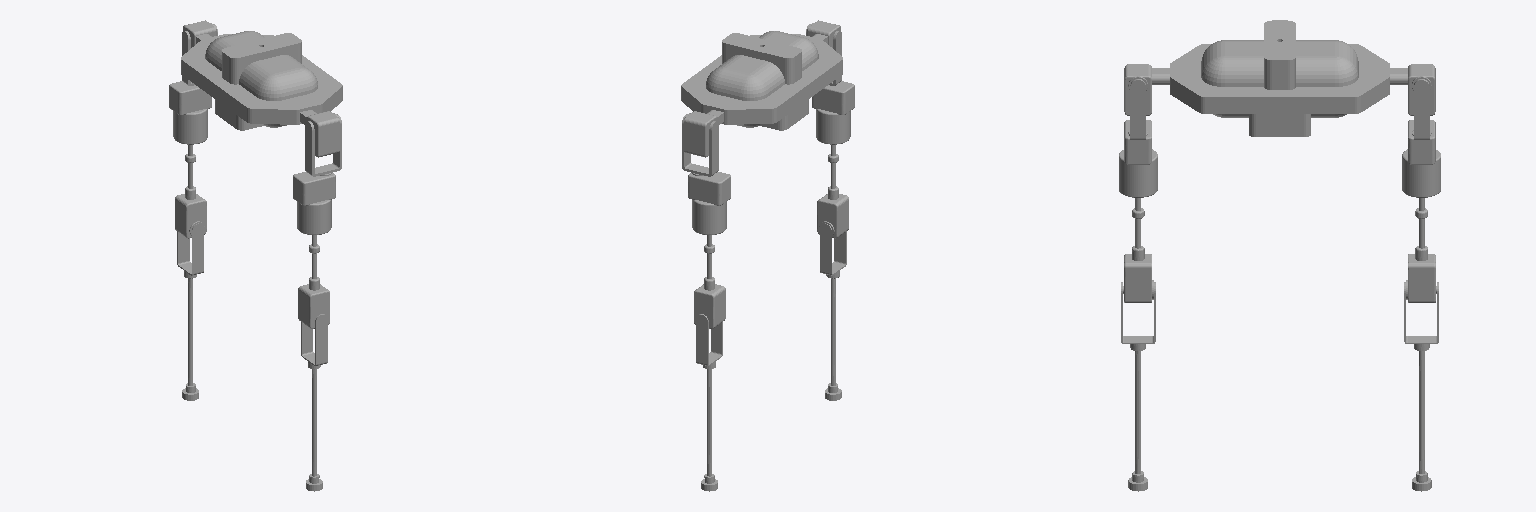
robot.urdf — antrop_arms:
<?xml version="1.0" ?>
<!-- =================================================================================== -->
<!-- |    This document was autogenerated by xacro from [local-path]/moveit_ws/src/antrop_arms/urdf/antrop_arms.xacro | -->
<!-- |    EDITING THIS FILE BY HAND IS NOT RECOMMENDED                                 | -->
<!-- =================================================================================== -->
<robot name="antrop_arms">
    <material name="silver">
        <color rgba="0.700 0.700 0.700 1.000" />
    </material>
    <transmission name="base_shoulder_left_joint_tran">
        <type>transmission_interface/SimpleTransmission</type>
        <joint name="base_shoulder_left_joint">
            <hardwareInterface>hardware_interface/PositionJointInterface</hardwareInterface>
        </joint>
        <actuator name="base_shoulder_left_joint_actr">
            <hardwareInterface>hardware_interface/PositionJointInterface</hardwareInterface>
            <mechanicalReduction>1</mechanicalReduction>
        </actuator>
    </transmission>
    <transmission name="shoulder_elbow_left_joint_tran">
        <type>transmission_interface/SimpleTransmission</type>
        <joint name="shoulder_elbow_left_joint">
            <hardwareInterface>hardware_interface/PositionJointInterface</hardwareInterface>
        </joint>
        <actuator name="shoulder_elbow_left_joint_actr">
            <hardwareInterface>hardware_interface/PositionJointInterface</hardwareInterface>
            <mechanicalReduction>1</mechanicalReduction>
        </actuator>
    </transmission>
    <transmission name="base_shoulder_right_joint_tran">
        <type>transmission_interface/SimpleTransmission</type>
        <joint name="base_shoulder_right_joint">
            <hardwareInterface>hardware_interface/PositionJointInterface</hardwareInterface>
        </joint>
        <actuator name="base_shoulder_right_joint_actr">
            <hardwareInterface>hardware_interface/PositionJointInterface</hardwareInterface>
            <mechanicalReduction>1</mechanicalReduction>
        </actuator>
    </transmission>
    <transmission name="shoulder_elbow_right_joint_tran">
        <type>transmission_interface/SimpleTransmission</type>
        <joint name="shoulder_elbow_right_joint">
            <hardwareInterface>hardware_interface/PositionJointInterface</hardwareInterface>
        </joint>
        <actuator name="shoulder_elbow_right_joint_actr">
            <hardwareInterface>hardware_interface/PositionJointInterface</hardwareInterface>
            <mechanicalReduction>1</mechanicalReduction>
        </actuator>
    </transmission>
    <transmission name="elbow_forearm_right_joint_tran">
        <type>transmission_interface/SimpleTransmission</type>
        <joint name="elbow_forearm_right_joint">
            <hardwareInterface>hardware_interface/PositionJointInterface</hardwareInterface>
        </joint>
        <actuator name="elbow_forearm_right_joint_actr">
            <hardwareInterface>hardware_interface/PositionJointInterface</hardwareInterface>
            <mechanicalReduction>1</mechanicalReduction>
        </actuator>
    </transmission>
    <transmission name="elbow_forearm_left_joint_tran">
        <type>transmission_interface/SimpleTransmission</type>
        <joint name="elbow_forearm_left_joint">
            <hardwareInterface>hardware_interface/PositionJointInterface</hardwareInterface>
        </joint>
        <actuator name="elbow_forearm_left_joint_actr">
            <hardwareInterface>hardware_interface/PositionJointInterface</hardwareInterface>
            <mechanicalReduction>1</mechanicalReduction>
        </actuator>
    </transmission>
    <gazebo>
        <plugin filename="libgazebo_ros_control.so" name="control">
            <robotNamespace>/antrop_arms</robotNamespace>
        </plugin>
        <plugin name="gazebo_ros_control">
            <robotNamespace>/</robotNamespace>
        </plugin>
    </gazebo>
    <gazebo reference="base_link">
        <material>Gazebo/Silver</material>
        <mu1>0.2</mu1>
        <mu2>0.2</mu2>
        <selfCollide>true</selfCollide>
        <gravity>true</gravity>
    </gazebo>
    <gazebo reference="Shoulder_Yaw_Structure_v1_1">
        <material>Gazebo/Silver</material>
        <mu1>0.2</mu1>
        <mu2>0.2</mu2>
        <selfCollide>true</selfCollide>
    </gazebo>
    <gazebo reference="Servo_Herkulex_v1_1">
        <material>Gazebo/Silver</material>
        <mu1>0.2</mu1>
        <mu2>0.2</mu2>
        <selfCollide>true</selfCollide>
    </gazebo>
    <gazebo reference="Shoulder_Yaw_Transmission_v1_1">
        <material>Gazebo/Silver</material>
        <mu1>0.2</mu1>
        <mu2>0.2</mu2>
        <selfCollide>true</selfCollide>
    </gazebo>
    <gazebo reference="elbow_left_link_1">
        <material>Gazebo/Silver</material>
        <mu1>0.2</mu1>
        <mu2>0.2</mu2>
        <selfCollide>true</selfCollide>
    </gazebo>
    <gazebo reference="Shoulder_Yaw_Structure_v1__1__1">
        <material>Gazebo/Silver</material>
        <mu1>0.2</mu1>
        <mu2>0.2</mu2>
        <selfCollide>true</selfCollide>
    </gazebo>
    <gazebo reference="Servo_Herkulex_v1__1__1">
        <material>Gazebo/Silver</material>
        <mu1>0.2</mu1>
        <mu2>0.2</mu2>
        <selfCollide>true</selfCollide>
    </gazebo>
    <gazebo reference="Shoulder_Yaw_Transmission_v1__1__1">
        <material>Gazebo/Silver</material>
        <mu1>0.2</mu1>
        <mu2>0.2</mu2>
        <selfCollide>true</selfCollide>
    </gazebo>
    <gazebo reference="elbow_right_link_1">
        <material>Gazebo/Silver</material>
        <mu1>0.2</mu1>
        <mu2>0.2</mu2>
        <selfCollide>true</selfCollide>
    </gazebo>
    <gazebo reference="shoulder_right_link_1">
        <material>Gazebo/Silver</material>
        <mu1>0.2</mu1>
        <mu2>0.2</mu2>
        <selfCollide>true</selfCollide>
    </gazebo>
    <gazebo reference="shoulder_left_link_1">
        <material>Gazebo/Silver</material>
        <mu1>0.2</mu1>
        <mu2>0.2</mu2>
        <selfCollide>true</selfCollide>
    </gazebo>
    <gazebo reference="forearm_left_link_1">
        <material>Gazebo/Silver</material>
        <mu1>0.2</mu1>
        <mu2>0.2</mu2>
        <selfCollide>true</selfCollide>
    </gazebo>
    <gazebo reference="forearm_right_link_1">
        <material>Gazebo/Silver</material>
        <mu1>0.2</mu1>
        <mu2>0.2</mu2>
        <selfCollide>true</selfCollide>
    </gazebo>
    <link name="world" />
    <link name="base_link">
        <inertial>
            <origin rpy="0 0 0" xyz="1.066898751021674e-15 6.668117193885462e-17 -0.0018137714290285523" />
            <mass value="17.13115280088791" />
            <inertia ixx="0.071673" ixy="0.0" ixz="0.0" iyy="0.032901" iyz="0.0" izz="0.085379" />
        </inertial>
        <visual>
            <origin rpy="0 0 0" xyz="0 0 0" />
            <geometry>
                <mesh filename="package://antrop_arms_description/meshes/base_link.stl" scale="0.001 0.001 0.001" />
            </geometry>
            <material name="silver" />
        </visual>
        <collision>
            <origin rpy="0 0 0" xyz="0 0 0" />
            <geometry>
                <mesh filename="package://antrop_arms_description/meshes/base_link.stl" scale="0.001 0.001 0.001" />
            </geometry>
        </collision>
    </link>
    <link name="Shoulder_Yaw_Structure_v1_1">
        <inertial>
            <origin rpy="0 0 0" xyz="-0.021135735062036764 -8.326672684688674e-16 -0.04093696874713262" />
            <mass value="0.13081573332382615" />
            <inertia ixx="9.8e-05" ixy="-0.0" ixz="1e-06" iyy="0.000152" iyz="0.0" izz="6.3e-05" />
        </inertial>
        <visual>
            <origin rpy="0 0 0" xyz="-0.021 -0.18 0.0" />
            <geometry>
                <mesh filename="package://antrop_arms_description/meshes/Shoulder_Yaw_Structure_v1_1.stl" scale="0.001 0.001 0.001" />
            </geometry>
            <material name="silver" />
        </visual>
        <collision>
            <origin rpy="0 0 0" xyz="-0.021 -0.18 0.0" />
            <geometry>
                <mesh filename="package://antrop_arms_description/meshes/Shoulder_Yaw_Structure_v1_1.stl" scale="0.001 0.001 0.001" />
            </geometry>
        </collision>
    </link>
    <link name="Servo_Herkulex_v1_1">
        <inertial>
            <origin rpy="0 0 0" xyz="-0.015296200031691265 -5.551115123125783e-17 -0.02073708217051337" />
            <mass value="0.5836410679799175" />
            <inertia ixx="0.00013" ixy="0.0" ixz="-2e-06" iyy="0.000221" iyz="0.0" izz="0.000207" />
        </inertial>
        <visual>
            <origin rpy="0 0 0" xyz="0.0 -0.18 0.075" />
            <geometry>
                <mesh filename="package://antrop_arms_description/meshes/Servo_Herkulex_v1_1.stl" scale="0.001 0.001 0.001" />
            </geometry>
            <material name="silver" />
        </visual>
        <collision>
            <origin rpy="0 0 0" xyz="0.0 -0.18 0.075" />
            <geometry>
                <mesh filename="package://antrop_arms_description/meshes/Servo_Herkulex_v1_1.stl" scale="0.001 0.001 0.001" />
            </geometry>
        </collision>
    </link>
    <link name="Shoulder_Yaw_Transmission_v1_1">
        <inertial>
            <origin rpy="0 0 0" xyz="-1.8166024240429124e-14 -5.551115123125783e-17 -0.023088428353467902" />
            <mass value="0.7529944150379378" />
            <inertia ixx="0.000272" ixy="-0.0" ixz="0.0" iyy="0.000272" iyz="-0.0" izz="0.000239" />
        </inertial>
        <visual>
            <origin rpy="0 0 0" xyz="0.0155 -0.18 0.115" />
            <geometry>
                <mesh filename="package://antrop_arms_description/meshes/Shoulder_Yaw_Transmission_v1_1.stl" scale="0.001 0.001 0.001" />
            </geometry>
            <material name="silver" />
        </visual>
        <collision>
            <origin rpy="0 0 0" xyz="0.0155 -0.18 0.115" />
            <geometry>
                <mesh filename="package://antrop_arms_description/meshes/Shoulder_Yaw_Transmission_v1_1.stl" scale="0.001 0.001 0.001" />
            </geometry>
        </collision>
    </link>
    <link name="elbow_left_link_1">
        <inertial>
            <origin rpy="0 0 0" xyz="-1.899869150889799e-14 -0.00021228541858173133 -0.11684928259378977" />
            <mass value="0.6214584962841803" />
            <inertia ixx="0.000538" ixy="0.0" ixz="0.0" iyy="0.000531" iyz="-3e-06" izz="0.000118" />
        </inertial>
        <visual>
            <origin rpy="0 0 0" xyz="0.0155 -0.18 0.163" />
            <geometry>
                <mesh filename="package://antrop_arms_description/meshes/elbow_left_link_1.stl" scale="0.001 0.001 0.001" />
            </geometry>
            <material name="silver" />
        </visual>
        <collision>
            <origin rpy="0 0 0" xyz="0.0155 -0.18 0.163" />
            <geometry>
                <mesh filename="package://antrop_arms_description/meshes/elbow_left_link_1.stl" scale="0.001 0.001 0.001" />
            </geometry>
        </collision>
    </link>
    <link name="Shoulder_Yaw_Structure_v1__1__1">
        <inertial>
            <origin rpy="0 0 0" xyz="-0.021135735062036733 -9.43689570931383e-16 -0.040936968747132534" />
            <mass value="0.13081573332382615" />
            <inertia ixx="9.8e-05" ixy="-0.0" ixz="1e-06" iyy="0.000152" iyz="0.0" izz="6.3e-05" />
        </inertial>
        <visual>
            <origin rpy="0 0 0" xyz="-0.021 0.18 0.0" />
            <geometry>
                <mesh filename="package://antrop_arms_description/meshes/Shoulder_Yaw_Structure_v1__1__1.stl" scale="0.001 0.001 0.001" />
            </geometry>
            <material name="silver" />
        </visual>
        <collision>
            <origin rpy="0 0 0" xyz="-0.021 0.18 0.0" />
            <geometry>
                <mesh filename="package://antrop_arms_description/meshes/Shoulder_Yaw_Structure_v1__1__1.stl" scale="0.001 0.001 0.001" />
            </geometry>
        </collision>
    </link>
    <link name="Servo_Herkulex_v1__1__1">
        <inertial>
            <origin rpy="0 0 0" xyz="-0.015296200031691375 1.6653345369377348e-16 -0.020737082170513232" />
            <mass value="0.5836410679799175" />
            <inertia ixx="0.00013" ixy="0.0" ixz="-2e-06" iyy="0.000221" iyz="0.0" izz="0.000207" />
        </inertial>
        <visual>
            <origin rpy="0 0 0" xyz="0.0 0.18 0.075" />
            <geometry>
                <mesh filename="package://antrop_arms_description/meshes/Servo_Herkulex_v1__1__1.stl" scale="0.001 0.001 0.001" />
            </geometry>
            <material name="silver" />
        </visual>
        <collision>
            <origin rpy="0 0 0" xyz="0.0 0.18 0.075" />
            <geometry>
                <mesh filename="package://antrop_arms_description/meshes/Servo_Herkulex_v1__1__1.stl" scale="0.001 0.001 0.001" />
            </geometry>
        </collision>
    </link>
    <link name="Shoulder_Yaw_Transmission_v1__1__1">
        <inertial>
            <origin rpy="0 0 0" xyz="-1.8197249262996706e-14 1.942890293094024e-16 -0.023088428353467597" />
            <mass value="0.7529944150379378" />
            <inertia ixx="0.000272" ixy="-0.0" ixz="0.0" iyy="0.000272" iyz="0.0" izz="0.000239" />
        </inertial>
        <visual>
            <origin rpy="0 0 0" xyz="0.0155 0.18 0.115" />
            <geometry>
                <mesh filename="package://antrop_arms_description/meshes/Shoulder_Yaw_Transmission_v1__1__1.stl" scale="0.001 0.001 0.001" />
            </geometry>
            <material name="silver" />
        </visual>
        <collision>
            <origin rpy="0 0 0" xyz="0.0155 0.18 0.115" />
            <geometry>
                <mesh filename="package://antrop_arms_description/meshes/Shoulder_Yaw_Transmission_v1__1__1.stl" scale="0.001 0.001 0.001" />
            </geometry>
        </collision>
    </link>
    <link name="elbow_right_link_1">
        <inertial>
            <origin rpy="0 0 0" xyz="-1.675569405445998e-14 0.0002122854185845624 -0.11684928259381297" />
            <mass value="0.6214584962841804" />
            <inertia ixx="0.000538" ixy="-0.0" ixz="0.0" iyy="0.000531" iyz="3e-06" izz="0.000118" />
        </inertial>
        <visual>
            <origin rpy="0 0 0" xyz="0.0155 0.18 0.163" />
            <geometry>
                <mesh filename="package://antrop_arms_description/meshes/elbow_right_link_1.stl" scale="0.001 0.001 0.001" />
            </geometry>
            <material name="silver" />
        </visual>
        <collision>
            <origin rpy="0 0 0" xyz="0.0155 0.18 0.163" />
            <geometry>
                <mesh filename="package://antrop_arms_description/meshes/elbow_right_link_1.stl" scale="0.001 0.001 0.001" />
            </geometry>
        </collision>
    </link>
    <link name="shoulder_right_link_1">
        <inertial>
            <origin rpy="0 0 0" xyz="-0.0002500317321433487 -0.03591809092030432 -0.013543028885077014" />
            <mass value="0.6591423872621155" />
            <inertia ixx="0.000324" ixy="9e-06" ixz="2e-06" iyy="0.000242" iyz="-3.6e-05" izz="0.000235" />
        </inertial>
        <visual>
            <origin rpy="0 0 0" xyz="0.0 0.14 -0.0" />
            <geometry>
                <mesh filename="package://antrop_arms_description/meshes/shoulder_right_link_1.stl" scale="0.001 0.001 0.001" />
            </geometry>
            <material name="silver" />
        </visual>
        <collision>
            <origin rpy="0 0 0" xyz="0.0 0.14 -0.0" />
            <geometry>
                <mesh filename="package://antrop_arms_description/meshes/shoulder_right_link_1.stl" scale="0.001 0.001 0.001" />
            </geometry>
        </collision>
    </link>
    <link name="shoulder_left_link_1">
        <inertial>
            <origin rpy="0 0 0" xyz="-0.0002500317321533693 0.035918090920304124 -0.013543028885077059" />
            <mass value="0.6591423872621155" />
            <inertia ixx="0.000324" ixy="-9e-06" ixz="2e-06" iyy="0.000242" iyz="3.6e-05" izz="0.000235" />
        </inertial>
        <visual>
            <origin rpy="0 0 0" xyz="0.0 -0.14 -0.0" />
            <geometry>
                <mesh filename="package://antrop_arms_description/meshes/shoulder_left_link_1.stl" scale="0.001 0.001 0.001" />
            </geometry>
            <material name="silver" />
        </visual>
        <collision>
            <origin rpy="0 0 0" xyz="0.0 -0.14 -0.0" />
            <geometry>
                <mesh filename="package://antrop_arms_description/meshes/shoulder_left_link_1.stl" scale="0.001 0.001 0.001" />
            </geometry>
        </collision>
    </link>
    <link name="forearm_left_link_1">
        <inertial>
            <origin rpy="0 0 0" xyz="-2.4015511801422917e-14 -0.020000000000116203 -0.14499270392199487" />
            <mass value="0.20799291557495453" />
            <inertia ixx="0.001901" ixy="-0.0" ixz="-0.0" iyy="0.001879" iyz="0.0" izz="3.1e-05" />
        </inertial>
        <visual>
            <origin rpy="0 0 0" xyz="0.0155 0.16 0.3025" />
            <geometry>
                <mesh filename="package://antrop_arms_description/meshes/forearm_left_link_1.stl" scale="0.001 0.001 0.001" />
            </geometry>
            <material name="silver" />
        </visual>
        <collision>
            <origin rpy="0 0 0" xyz="0.0155 0.16 0.3025" />
            <geometry>
                <mesh filename="package://antrop_arms_description/meshes/forearm_left_link_1.stl" scale="0.001 0.001 0.001" />
            </geometry>
        </collision>
    </link>
    <link name="forearm_right_link_1">
        <inertial>
            <origin rpy="0 0 0" xyz="-2.80782341821606e-14 -0.020000000000115925 -0.14499270392199565" />
            <mass value="0.20799291557495453" />
            <inertia ixx="0.001901" ixy="-0.0" ixz="-0.0" iyy="0.001879" iyz="0.0" izz="3.1e-05" />
        </inertial>
        <visual>
            <origin rpy="0 0 0" xyz="0.0155 -0.2 0.3025" />
            <geometry>
                <mesh filename="package://antrop_arms_description/meshes/forearm_right_link_1.stl" scale="0.001 0.001 0.001" />
            </geometry>
            <material name="silver" />
        </visual>
        <collision>
            <origin rpy="0 0 0" xyz="0.0155 -0.2 0.3025" />
            <geometry>
                <mesh filename="package://antrop_arms_description/meshes/forearm_right_link_1.stl" scale="0.001 0.001 0.001" />
            </geometry>
        </collision>
    </link>
    <joint name="base_shoulder_left_joint" type="revolute">
        <origin rpy="0 0 0" xyz="0.021 0.04 -0.0" />
        <parent link="shoulder_left_link_1" />
        <child link="Shoulder_Yaw_Structure_v1_1" />
        <axis xyz="1.0 -0.0 0.0" />
        <limit effort="20.1" lower="-0.174533" upper="1.5708" velocity="2" />
    </joint>
    <joint name="Rigid3" type="fixed">
        <origin rpy="0 0 0" xyz="-0.021 0.0 -0.075" />
        <parent link="Shoulder_Yaw_Structure_v1_1" />
        <child link="Servo_Herkulex_v1_1" />
    </joint>
    <joint name="Rigid5" type="fixed">
        <origin rpy="0 0 0" xyz="-0.0155 0.0 -0.04" />
        <parent link="Servo_Herkulex_v1_1" />
        <child link="Shoulder_Yaw_Transmission_v1_1" />
    </joint>
    <joint name="shoulder_elbow_left_joint" type="revolute">
        <origin rpy="0 0 0" xyz="0.0 0.0 -0.048" />
        <parent link="Shoulder_Yaw_Transmission_v1_1" />
        <child link="elbow_left_link_1" />
        <axis xyz="0.0 0.0 1.0" />
        <limit effort="20.1" lower="-1.5708" upper="1.5708" velocity="2" />
    </joint>
    <joint name="base_shoulder_right_joint" type="revolute">
        <origin rpy="0 0 0" xyz="0.021 -0.04 -0.0" />
        <parent link="shoulder_right_link_1" />
        <child link="Shoulder_Yaw_Structure_v1__1__1" />
        <axis xyz="1 0 0" />
        <limit effort="20.1" lower="-1.5708" upper="0.174533" velocity="2" />
    </joint>
    <joint name="Rigid9" type="fixed">
        <origin rpy="0 0 0" xyz="-0.021 0.0 -0.075" />
        <parent link="Shoulder_Yaw_Structure_v1__1__1" />
        <child link="Servo_Herkulex_v1__1__1" />
    </joint>
    <joint name="Rigid10" type="fixed">
        <origin rpy="0 0 0" xyz="-0.0155 0.0 -0.04" />
        <parent link="Servo_Herkulex_v1__1__1" />
        <child link="Shoulder_Yaw_Transmission_v1__1__1" />
    </joint>
    <joint name="shoulder_elbow_right_joint" type="revolute">
        <origin rpy="0 0 0" xyz="0.0 0.0 -0.048" />
        <parent link="Shoulder_Yaw_Transmission_v1__1__1" />
        <child link="elbow_right_link_1" />
        <axis xyz="0.0 -0.0 1.0" />
        <limit effort="20.1" lower="-1.5708" upper="1.5708" velocity="2" />
    </joint>
    <joint name="base_shoulder_right_fixed_joint" type="fixed">
        <origin rpy="0 0 0" xyz="0.0 -0.14 0.0" />
        <parent link="base_link" />
        <child link="shoulder_right_link_1" />
    </joint>
    <joint name="base_shoulder_left_fixed_joint" type="fixed">
        <origin rpy="0 0 0" xyz="0.0 0.14 0.0" />
        <parent link="base_link" />
        <child link="shoulder_left_link_1" />
    </joint>
    <joint name="elbow_forearm_right_joint" type="revolute">
        <origin rpy="0 0 0" xyz="0.0 0.02 -0.1395" />
        <limit effort="20.1" lower="-2.35619" upper="2.35619" velocity="2" />
        <axis xyz="0 1 0" />
        <parent link="elbow_right_link_1" />
        <child link="forearm_right_link_1" />
    </joint>
    <joint name="elbow_forearm_left_joint" type="revolute">
        <origin rpy="0 0 0" xyz="0.0 0.02 -0.1395" />
        <limit effort="20.1" lower="-2.35619" upper="2.35619" velocity="2" />
        <parent link="elbow_left_link_1" />
        <axis xyz="0 1 0" />
        <child link="forearm_left_link_1" />
    </joint>
    <joint name="float_base_link" type="fixed">
        <origin rpy="0 0 0" xyz="0 0 1.5" />
        <parent link="world" />
        <child link="base_link" />
    </joint>
</robot>

--- Facts derived from the render (not from the file) ---
3 views of the same robot in one strip: view 1: azimuth 30°, elevation 25°; view 2: azimuth 150°, elevation 25°; view 3: azimuth 270°, elevation 25° (orthographic).
Model antrop_arms with 14 links and 13 joints (6 revolute, 7 fixed), rooted at world, posed all joints at 0.
Visible links, largest first — view 1: base_link, forearm_right_link_1, forearm_left_link_1, elbow_left_link_1, elbow_right_link_1, shoulder_right_link_1, Servo_Herkulex_v1__1__1, Servo_Herkulex_v1_1, Shoulder_Yaw_Transmission_v1_1, Shoulder_Yaw_Transmission_v1__1__1, Shoulder_Yaw_Structure_v1__1__1; view 2: base_link, forearm_left_link_1, forearm_right_link_1, elbow_right_link_1, elbow_left_link_1, shoulder_left_link_1, Servo_Herkulex_v1_1, Servo_Herkulex_v1__1__1, Shoulder_Yaw_Transmission_v1__1__1, Shoulder_Yaw_Transmission_v1_1, Shoulder_Yaw_Structure_v1_1; view 3: base_link, elbow_left_link_1, elbow_right_link_1, forearm_left_link_1, forearm_right_link_1, Shoulder_Yaw_Transmission_v1_1, Shoulder_Yaw_Transmission_v1__1__1, shoulder_right_link_1, shoulder_left_link_1, Shoulder_Yaw_Structure_v1_1, Shoulder_Yaw_Structure_v1__1__1, Servo_Herkulex_v1_1 (+1 smaller).
Boxes of the visible links, x1,y1,x2,y2 form: base_link: (181, 31, 342, 130); forearm_right_link_1: (301, 314, 327, 491); forearm_left_link_1: (177, 223, 203, 400); elbow_left_link_1: (175, 145, 206, 238); elbow_right_link_1: (298, 235, 329, 328); shoulder_right_link_1: (300, 110, 339, 157); Servo_Herkulex_v1__1__1: (293, 172, 335, 205); Servo_Herkulex_v1_1: (169, 81, 211, 114); Shoulder_Yaw_Transmission_v1_1: (173, 109, 207, 144); Shoulder_Yaw_Transmission_v1__1__1: (297, 200, 331, 234); Shoulder_Yaw_Structure_v1__1__1: (305, 114, 341, 176); base_link: (681, 31, 842, 130); forearm_left_link_1: (696, 314, 722, 491); forearm_right_link_1: (820, 223, 846, 400); elbow_right_link_1: (817, 145, 848, 238); elbow_left_link_1: (694, 235, 725, 328); shoulder_left_link_1: (684, 110, 723, 157); Servo_Herkulex_v1_1: (688, 172, 730, 205); Servo_Herkulex_v1__1__1: (812, 81, 854, 114); Shoulder_Yaw_Transmission_v1__1__1: (816, 109, 850, 144); Shoulder_Yaw_Transmission_v1_1: (692, 200, 726, 234); Shoulder_Yaw_Structure_v1_1: (682, 114, 718, 176); base_link: (1170, 20, 1389, 136); elbow_left_link_1: (1406, 198, 1436, 302); elbow_right_link_1: (1123, 198, 1153, 302); forearm_left_link_1: (1404, 282, 1438, 491); forearm_right_link_1: (1121, 282, 1155, 491); Shoulder_Yaw_Transmission_v1_1: (1402, 149, 1440, 197); Shoulder_Yaw_Transmission_v1__1__1: (1119, 149, 1157, 197); shoulder_right_link_1: (1124, 64, 1169, 115); shoulder_left_link_1: (1390, 64, 1435, 115); Shoulder_Yaw_Structure_v1_1: (1414, 79, 1429, 139); Shoulder_Yaw_Structure_v1__1__1: (1130, 79, 1145, 139); Servo_Herkulex_v1_1: (1408, 120, 1435, 164).
Bounding box of the posed robot: 0.16 × 0.41 × 0.6335 m (x, y, z).
Meshes: 13 distinct files referenced, 13 mesh visuals loaded (13 binary STL).